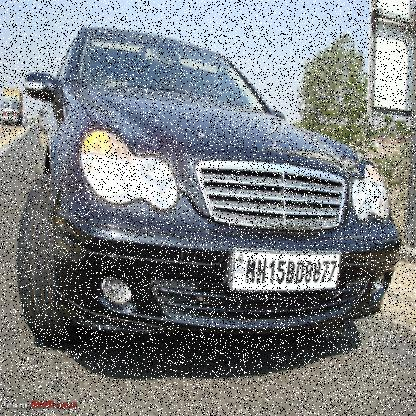licence: (234, 249, 339, 290)
